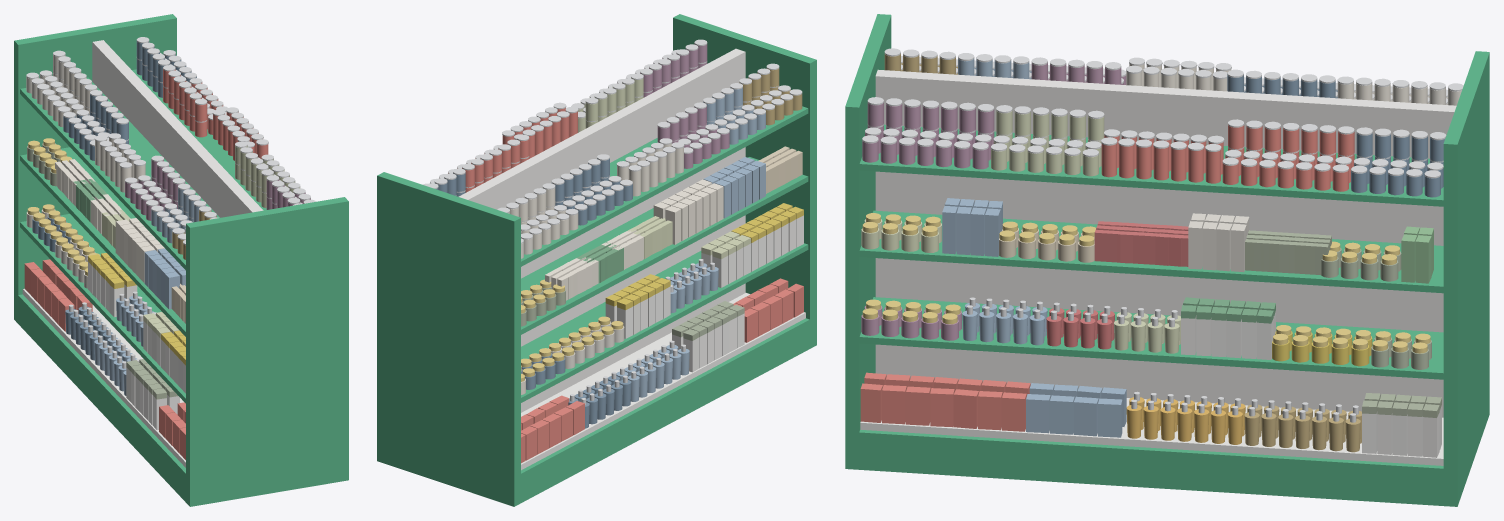
File: minimarket_rack_stocked_green.glb
The picture shows the model from 3 angles, left to right: view 1: azimuth 30°, elevation 25°; view 2: azimuth 150°, elevation 25°; view 3: azimuth 270°, elevation 25°; orthographic projection. The views are drawn at different scales.
Parts seen in each view (by area): view 1: Goods, upright_L, plinth, upright_R, spine, shelf_back_2, shelf_back_1, shelf_back_0, deck_base, shelf_front_2; view 2: Goods, upright_R, spine, plinth, upright_L, shelf_back_0, shelf_back_1, deck_base, shelf_back_2; view 3: Goods, spine, plinth, upright_R, upright_L, shelf_front_0, shelf_front_1, shelf_front_2, deck_base.
Part boxes in pixels (x1,y1,x2,y2): Goods: (24, 37, 315, 459); upright_L: (186, 197, 348, 506); plinth: (14, 291, 348, 506); upright_R: (14, 14, 176, 323); spine: (92, 40, 263, 217); shelf_back_2: (20, 77, 219, 270); shelf_back_1: (20, 147, 185, 336); shelf_back_0: (20, 214, 185, 403); deck_base: (22, 288, 185, 467); shelf_front_2: (132, 69, 266, 210); Goods: (422, 39, 803, 463); upright_R: (377, 172, 520, 506); spine: (458, 48, 745, 412); plinth: (377, 316, 816, 506); upright_L: (673, 14, 816, 346); shelf_back_0: (521, 243, 808, 402); shelf_back_1: (521, 157, 808, 334); deck_base: (521, 293, 805, 470); shelf_back_2: (521, 106, 808, 266); Goods: (860, 48, 1463, 457); spine: (875, 69, 1456, 417); plinth: (848, 378, 1489, 506); upright_R: (1443, 51, 1489, 506); upright_L: (845, 14, 891, 469); shelf_front_0: (859, 297, 1443, 379); shelf_front_1: (859, 210, 1443, 293); shelf_front_2: (859, 124, 1443, 206); deck_base: (860, 398, 1443, 465).
Size of the model in its own units: 1.2 by 1.55 by 2.5.
